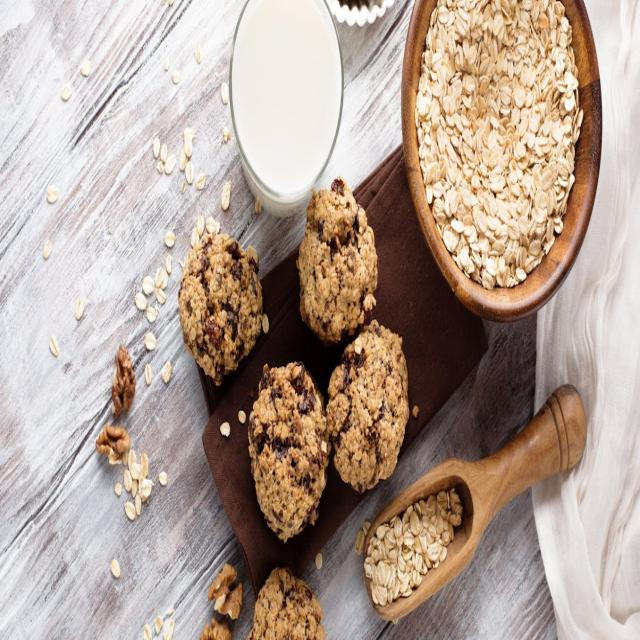avena: (416, 0, 599, 322)
